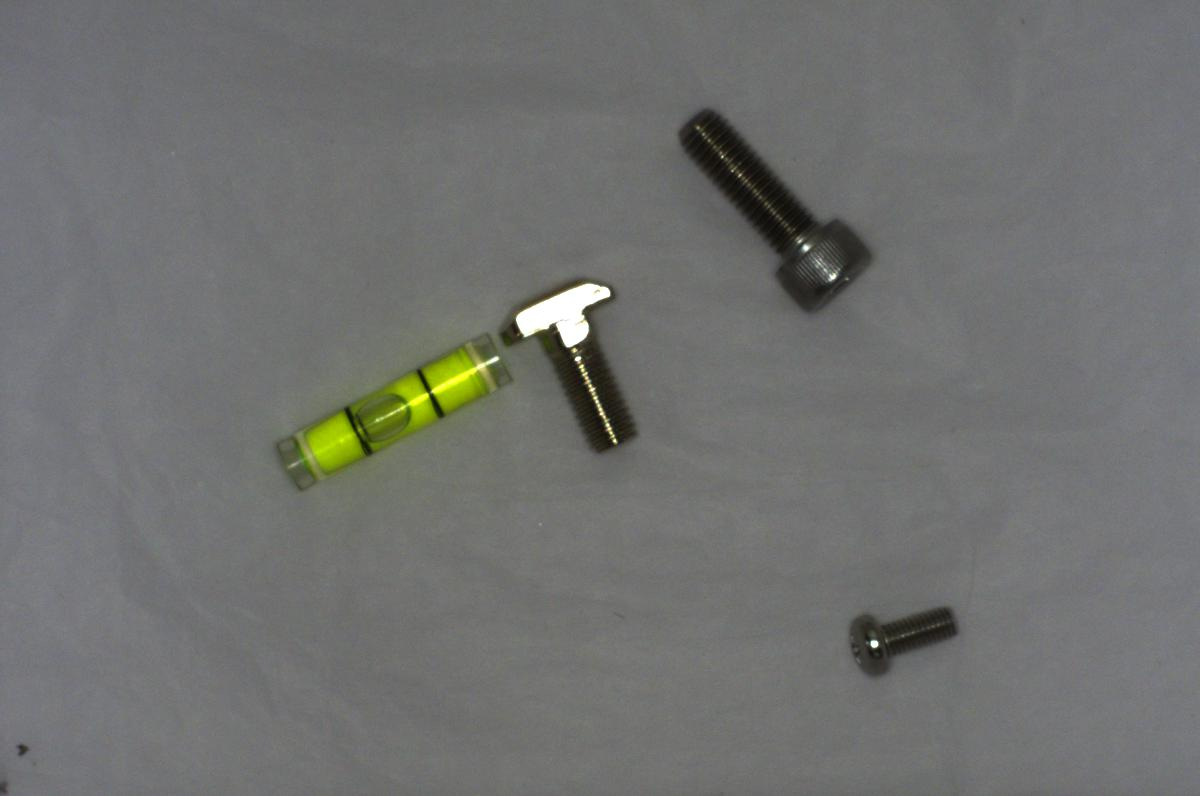Hexagon screw: (679, 108, 859, 303)
Horizontal bubble: (271, 325, 510, 488)
Round head screw: (832, 600, 965, 681)
T-shaped screw: (506, 276, 634, 465)
